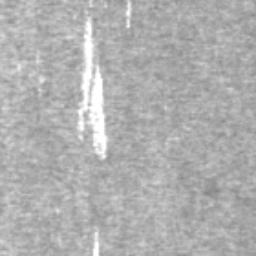White rust: (76, 16, 109, 160), (92, 226, 100, 256), (125, 0, 133, 28)
